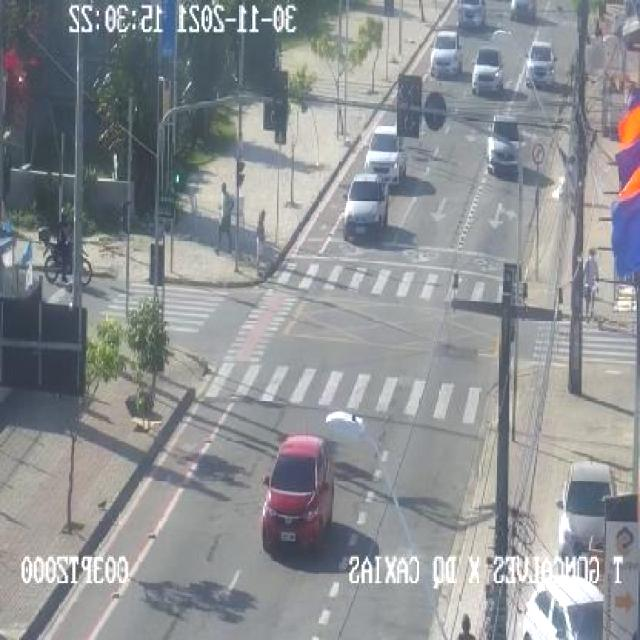Car: (260, 434, 334, 566), (362, 120, 407, 178), (486, 117, 528, 178), (425, 25, 466, 82), (527, 30, 561, 93), (472, 40, 510, 94), (511, 0, 548, 19)
Cycle: (34, 202, 91, 289)
Van: (342, 172, 388, 248)
